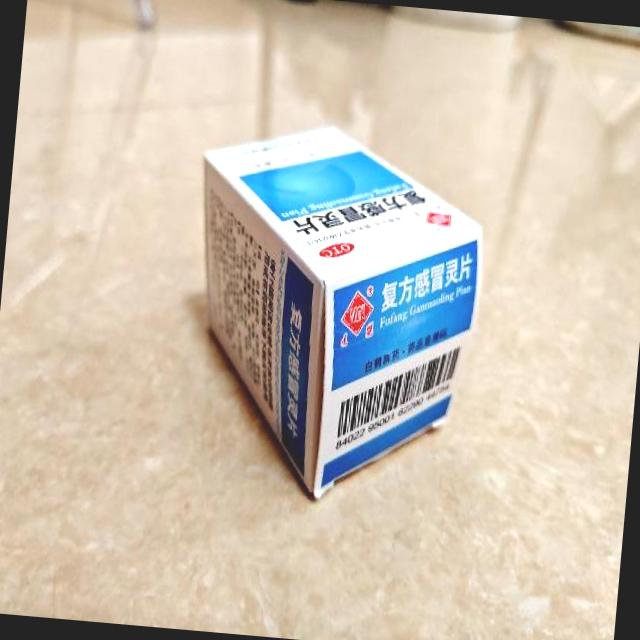box: (174, 114, 491, 512)
